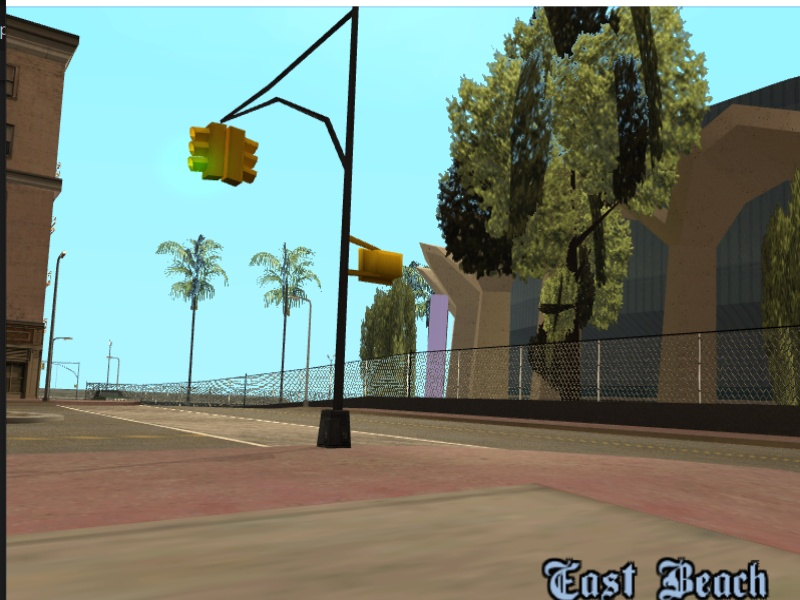pole: (325, 11, 368, 454), (43, 247, 67, 400)
tree: (185, 289, 199, 405)
